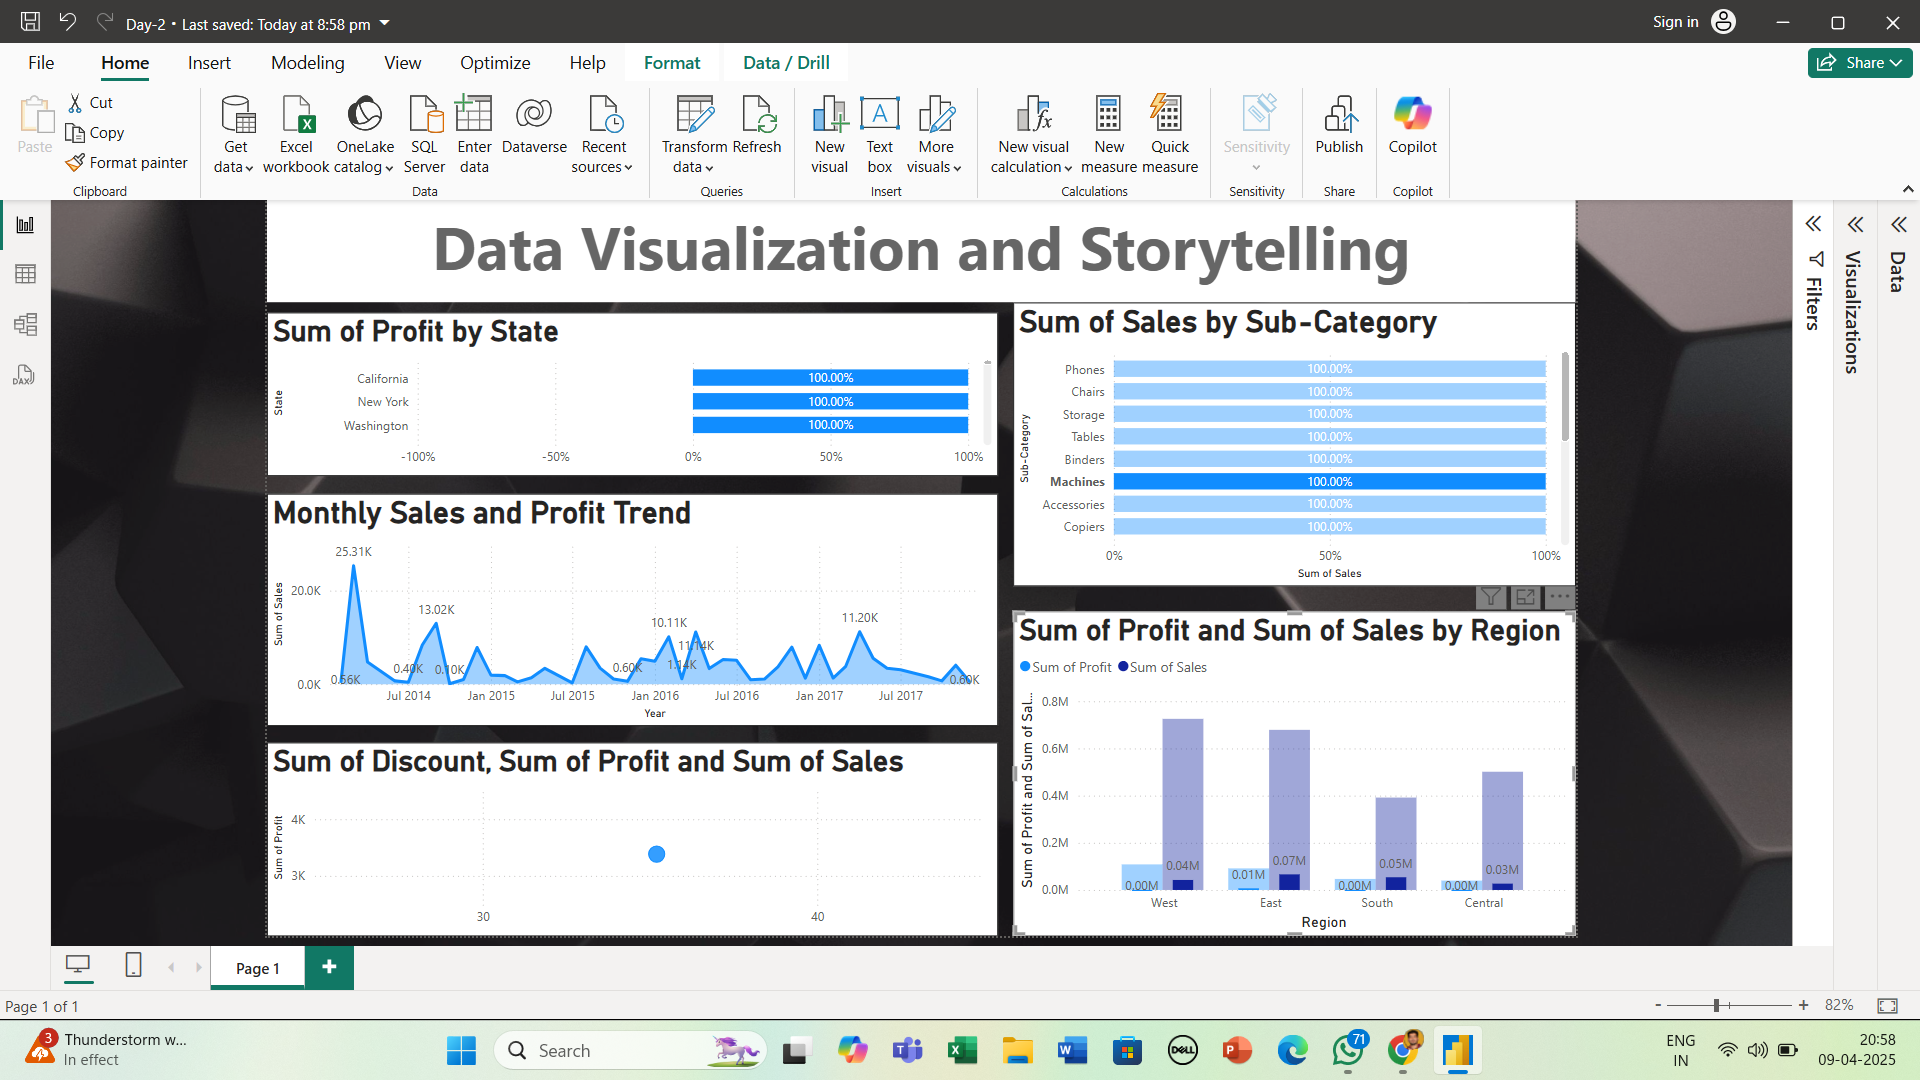

The page's visual inventory and layout, read from the dashboard file:
{"tool":"powerbi","page":{"name":"Page 1","canvas":[1280,720],"ordinal":0},"visuals":[{"type":"clusteredColumnChart","fields":{"Category":["Superstore_Dataset.Region"],"Y":["Superstore_Dataset.Profit","Superstore_Dataset.Sales"]},"box":[730,402.3,550.3,317.9],"z":0},{"type":"hundredPercentStackedBarChart","fields":{"Category":["Superstore_Dataset.Sub-Category"],"Y":["Superstore_Dataset.Sales"]},"box":[730,100.3,550.3,277.6],"z":1000},{"type":"scatterChart","fields":{"X":["Superstore_Dataset.Discount"],"Y":["Superstore_Dataset.Profit"],"Size":["Superstore_Dataset.Sales"]},"box":[0,530.7,715.4,189.5],"z":2000},{"type":"lineChart","title":"Monthly Sales and Profit Trend","fields":{"Y":["Superstore_Dataset.Sales"],"Category":["Superstore_Dataset.Order Date.Variation.Date Hierarchy.Year","Superstore_Dataset.Order Date.Variation.Date Hierarchy.Month"]},"box":[0,287.4,715.4,227.4],"z":3000},{"type":"hundredPercentStackedBarChart","fields":{"Category":["Superstore_Dataset.State"],"Y":["Superstore_Dataset.Profit"]},"box":[0,110.1,715.4,160.2],"z":4000},{"type":"textbox","box":[0,0,1280,100],"z":5000}]}

Visuals, with their boxes on the page's 1280x720 design canvas (x1, y1, x2, y2). These are canvas units, not pixel positions in the 1920x1080 screenshot, which may show the page scaled, cropped or inside an application window:
clusteredColumnChart - Superstore_Dataset.Region x Superstore_Dataset.Profit: {"left": 730, "top": 402, "right": 1280, "bottom": 720}
hundredPercentStackedBarChart - Superstore_Dataset.Sub-Category x Superstore_Dataset.Sales: {"left": 730, "top": 100, "right": 1280, "bottom": 378}
scatterChart - Superstore_Dataset.Discount x Superstore_Dataset.Profit: {"left": 0, "top": 531, "right": 715, "bottom": 720}
"Monthly Sales and Profit Trend" lineChart: {"left": 0, "top": 287, "right": 715, "bottom": 515}
hundredPercentStackedBarChart - Superstore_Dataset.State x Superstore_Dataset.Profit: {"left": 0, "top": 110, "right": 715, "bottom": 270}
textbox: {"left": 0, "top": 0, "right": 1280, "bottom": 100}
